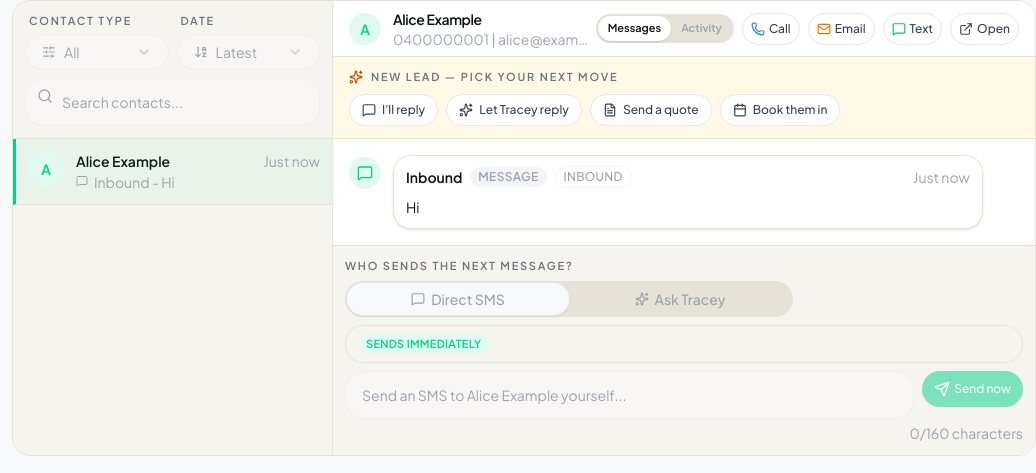
InboxView › exposes composer modes as tabs with distinct helper copy for Direct SMS vs Ask Tracey
Expected: the heading "Alice Example" is shown, [393,10,482,28]
Expected: the text "Sends immediately" is shown, [358,334,489,354]
What coordinates should you click on to do the following:
click the tab "Ask Tracey"
I would click on:
 (680, 299)
Its box is [569,283,791,315].
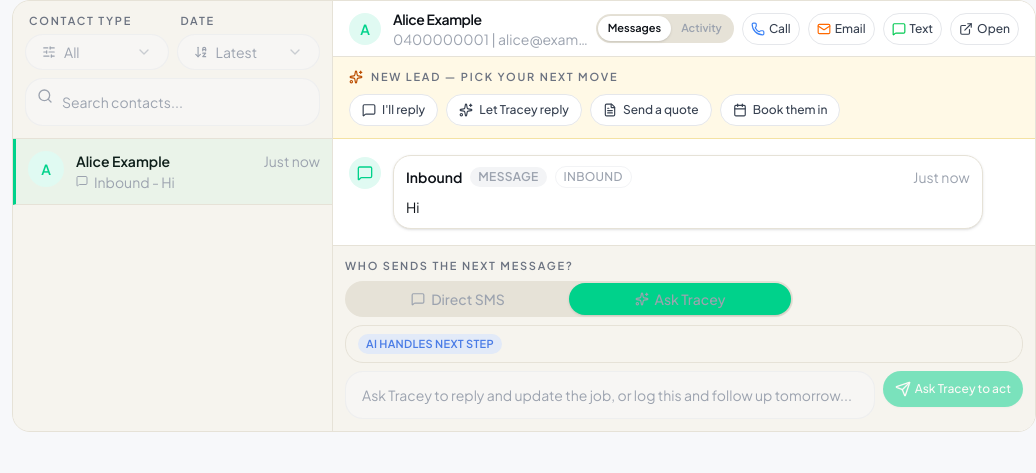
Result: the text "AI handles next step" is shown at [358,334,502,354]
Result: the button "Ask Tracey to act" is shown at [883,371,1023,407]
